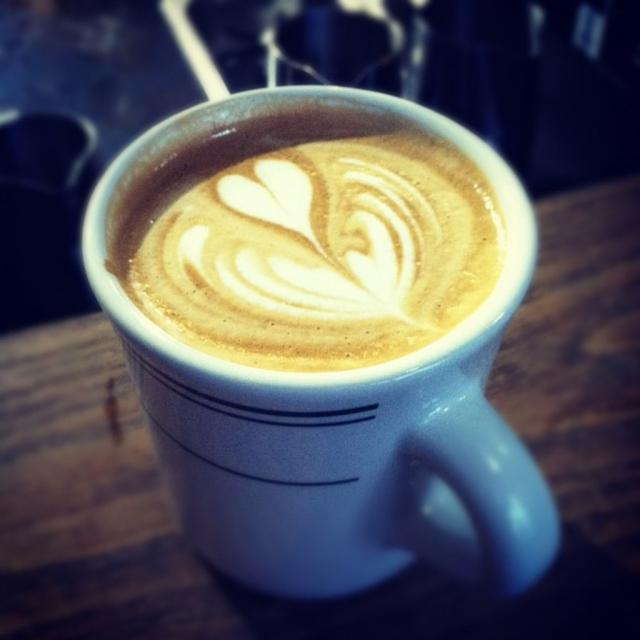Coffee: (107, 110, 509, 374)
